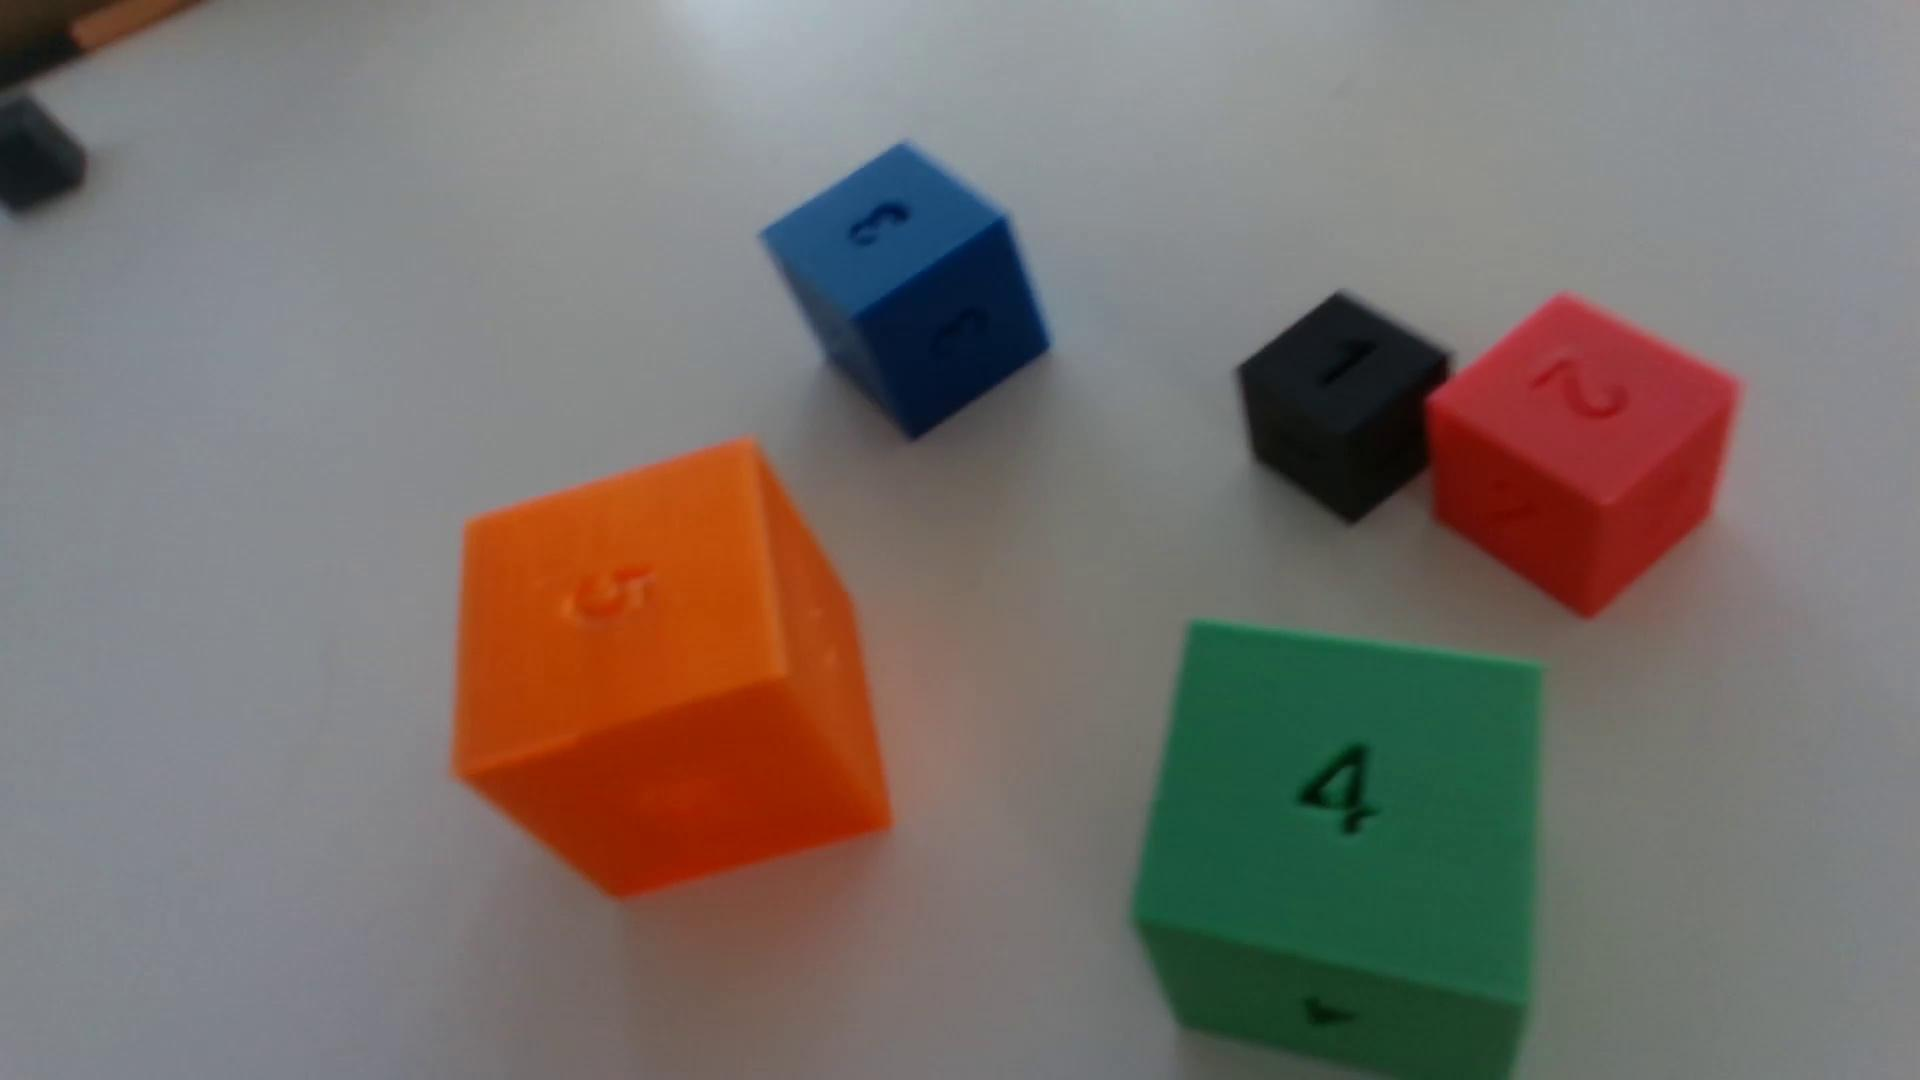black: (1236, 294, 1452, 525)
blue: (761, 145, 1048, 440)
green: (1134, 622, 1542, 1080)
orange: (454, 440, 891, 899)
red: (1425, 297, 1739, 618)
